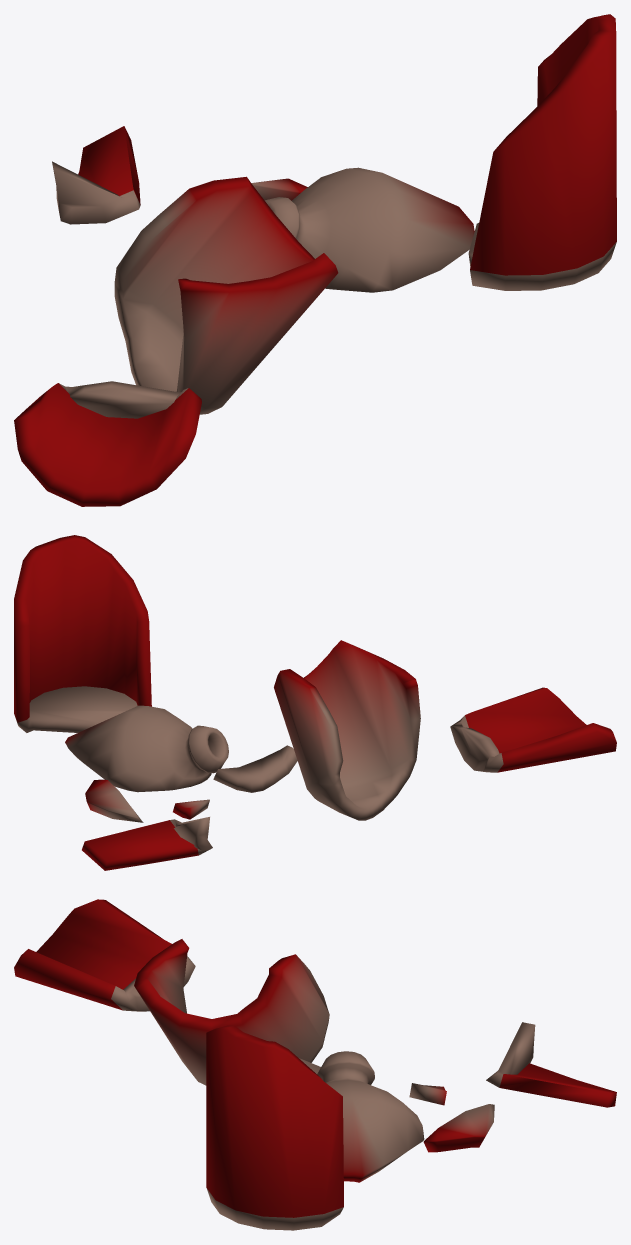
The model's file is Mesh_BeerBottle_Cracked.fbx.
The picture shows the model from 3 angles, top to bottom: view 1: azimuth 30°, elevation 25°; view 2: azimuth 150°, elevation 25°; view 3: azimuth 270°, elevation 25°; orthographic projection. The views are drawn at different scales.
Visible parts, largest first — view 1: Cylinder.004_cell.009, Fracture_BeerBottle, Cylinder.004_cell.007, Cylinder.004_cell.008, Cylinder.004_cell.002, Cylinder.004_cell.001; view 2: Fracture_BeerBottle, Cylinder.004_cell.009, Cylinder.004_cell.008, Cylinder.004_cell.007, Cylinder.004_cell.002, Cylinder.004_cell, Cylinder.004_cell.001, Cylinder.004_cell.006; view 3: Fracture_BeerBottle, Cylinder.004_cell.009, Cylinder.004_cell.007, Cylinder.004_cell.008, Cylinder.004_cell.002, Cylinder.004_cell.001, Cylinder.004_cell.006.
Part boxes in pixels (x1=…): Cylinder.004_cell.009: x1=114, y1=176, x2=338, y2=414; Fracture_BeerBottle: x1=468, y1=14, x2=616, y2=290; Cylinder.004_cell.007: x1=14, y1=381, x2=201, y2=506; Cylinder.004_cell.008: x1=264, y1=167, x2=474, y2=292; Cylinder.004_cell.002: x1=52, y1=126, x2=140, y2=224; Cylinder.004_cell.001: x1=251, y1=178, x2=307, y2=200; Fracture_BeerBottle: x1=14, y1=535, x2=151, y2=732; Cylinder.004_cell.009: x1=274, y1=640, x2=420, y2=820; Cylinder.004_cell.008: x1=65, y1=705, x2=228, y2=792; Cylinder.004_cell.007: x1=450, y1=687, x2=616, y2=772; Cylinder.004_cell.002: x1=82, y1=817, x2=212, y2=870; Cylinder.004_cell: x1=213, y1=745, x2=297, y2=792; Cylinder.004_cell.001: x1=85, y1=779, x2=143, y2=822; Cylinder.004_cell.006: x1=173, y1=799, x2=209, y2=819; Fracture_BeerBottle: x1=206, y1=1025, x2=343, y2=1230; Cylinder.004_cell.009: x1=134, y1=939, x2=329, y2=1085; Cylinder.004_cell.007: x1=14, y1=899, x2=195, y2=1011; Cylinder.004_cell.008: x1=317, y1=1051, x2=424, y2=1182; Cylinder.004_cell.002: x1=486, y1=1022, x2=616, y2=1107; Cylinder.004_cell.001: x1=423, y1=1104, x2=494, y2=1152; Cylinder.004_cell.006: x1=409, y1=1083, x2=446, y2=1105.
Bounding box in the file's own units: 46.54 × 17.38 × 41.64.
